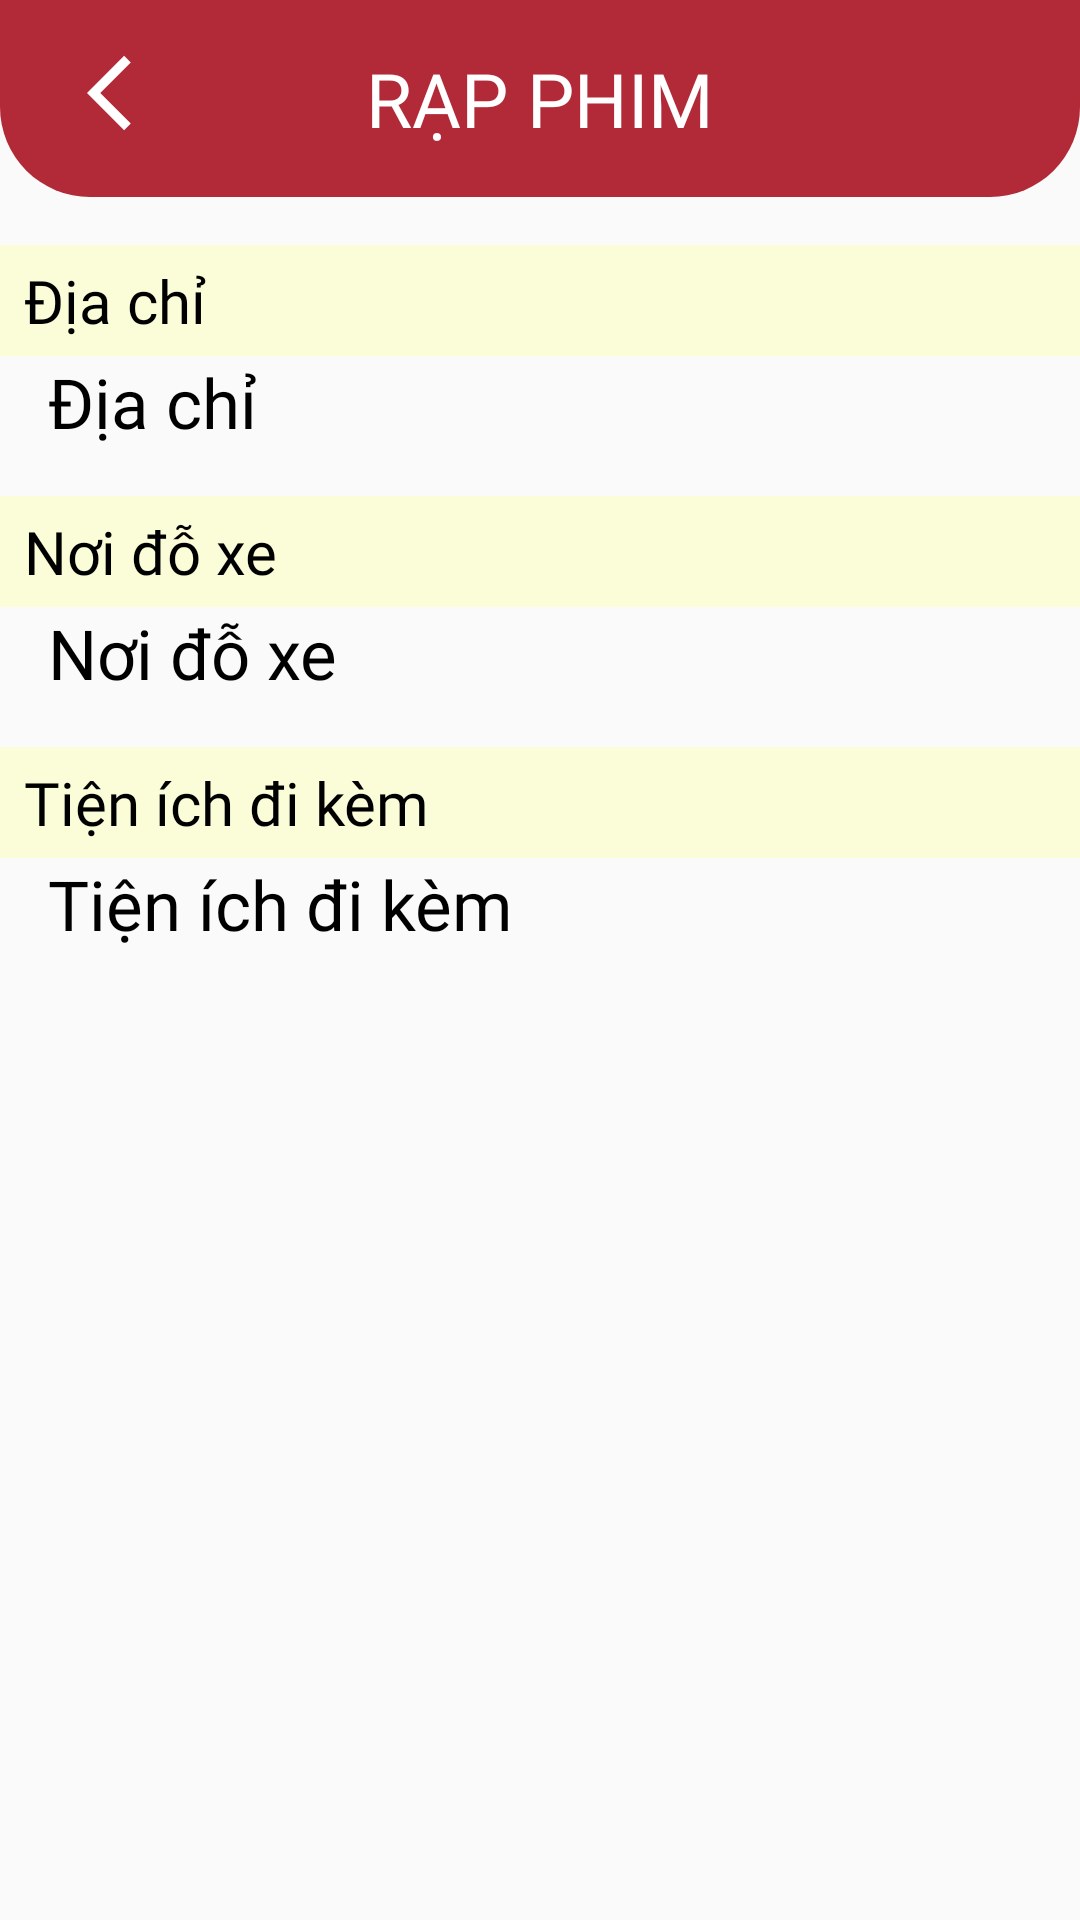

Screen size 1080px x 1920px. Icon name, then its box in pixels as (x1, y1, x2, y2):
back arrow: (87, 56, 131, 130)
